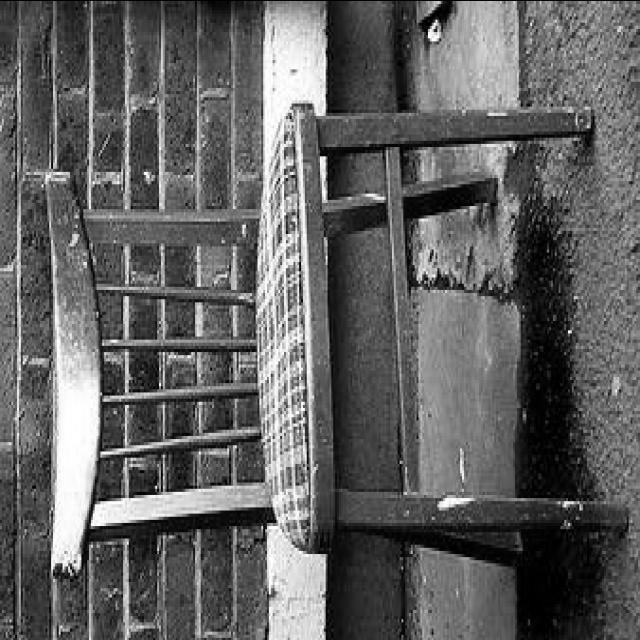chair: (46, 100, 628, 576)
